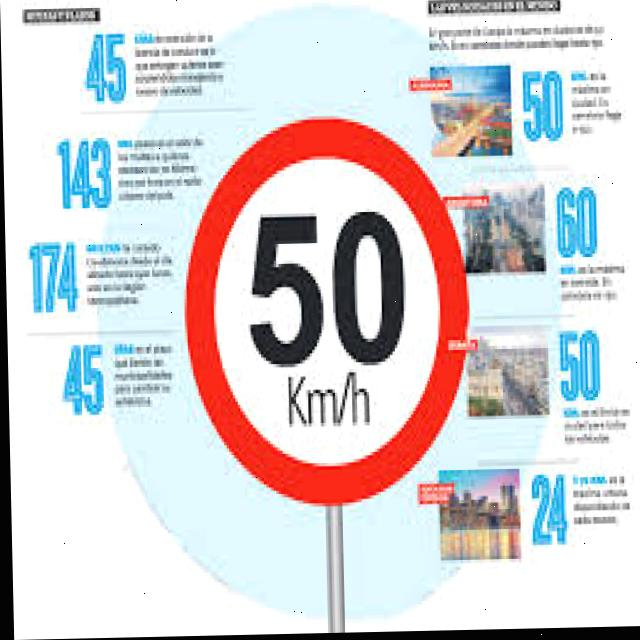Speed limit 50: (176, 110, 477, 511)
